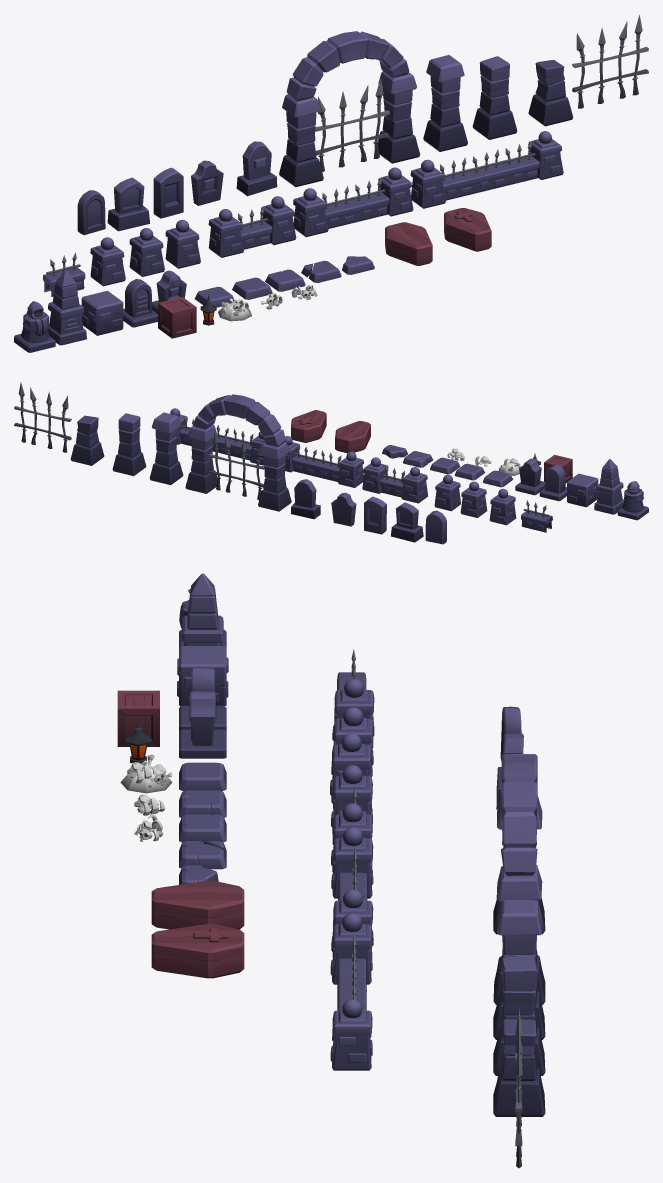
File: CementeryPack.fbx
The picture shows the model from 3 angles, top to bottom: view 1: azimuth 30°, elevation 25°; view 2: azimuth 150°, elevation 25°; view 3: azimuth 270°, elevation 25°; orthographic projection. The views are drawn at different scales.
Parts seen in each view (by area): view 1: outside_fence, fence_large, fence_medium, arch.001, fence_short, column_1, column_2, column_3, tomb_1, metal_fence, coffin, coffin_2 (+19 smaller); view 2: outside_fence, arch.001, fence_medium, fence_short, column_1, column_2, fence_large, column_3, tomb_1, metal_fence, coffin_2, coffin (+20 smaller); view 3: fence_large, coffin_2, arch.001, coffin, fence_medium, column_3, column_1, column_2, fence_short, outside_fence, tomb_3, tomb_1 (+12 smaller).
Boxes of the visible parts, box(x1,y1,x2,y2) form: outside_fence: box(279, 71, 420, 187); fence_large: box(410, 131, 563, 208); fence_medium: box(293, 167, 413, 237); arch.001: box(286, 31, 409, 101); fence_short: box(208, 196, 296, 257); column_1: box(423, 55, 467, 151); column_2: box(472, 56, 517, 139); column_3: box(528, 60, 573, 126); tomb_1: box(48, 271, 86, 345); metal_fence: box(572, 14, 648, 108); coffin: box(385, 222, 432, 265); coffin_2: box(444, 208, 491, 251); outside_fence: box(185, 424, 291, 511); arch.001: box(193, 394, 285, 446); fence_medium: box(285, 436, 363, 487); fence_short: box(362, 457, 427, 503); column_1: box(149, 412, 183, 485); column_2: box(112, 413, 146, 476); fence_large: box(170, 408, 265, 465); column_3: box(70, 415, 104, 465); tomb_1: box(594, 459, 623, 514); metal_fence: box(14, 382, 71, 452); coffin_2: box(291, 410, 326, 442); coffin: box(335, 421, 370, 453); fence_large: box(330, 913, 372, 1070); coffin_2: box(151, 923, 244, 978); arch.001: box(501, 754, 537, 875); coffin: box(151, 880, 244, 929); fence_medium: box(331, 827, 373, 957); column_3: box(493, 1019, 545, 1116); column_1: box(493, 900, 545, 1039); column_2: box(493, 956, 545, 1075); fence_short: box(331, 765, 372, 873); outside_fence: box(493, 796, 545, 1004); tomb_3: box(179, 691, 226, 758); tomb_1: box(182, 573, 223, 645).
Bounding box in the file's own units: 5330 × 922 × 1796.
